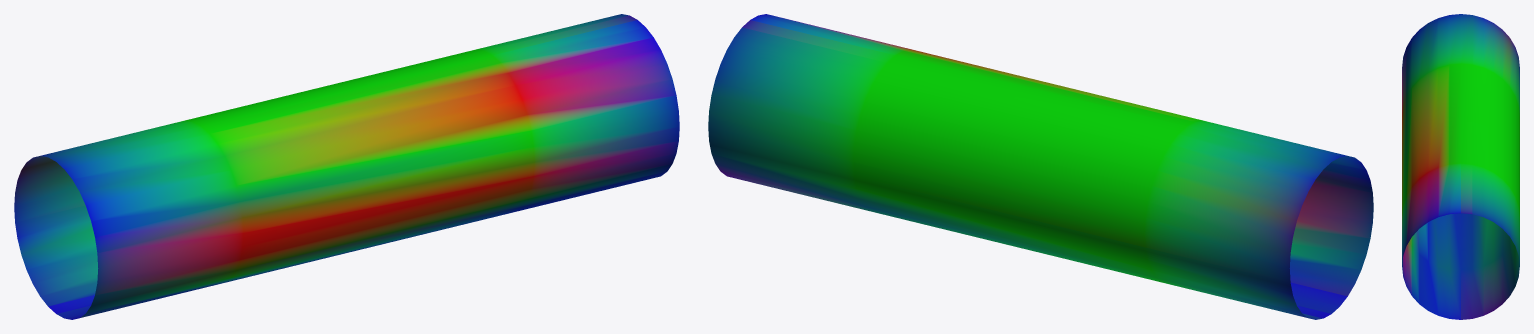
Rendered from PipeA_M_4.fbx.
The picture shows the model from 3 angles, left to right: view 1: azimuth 30°, elevation 25°; view 2: azimuth 150°, elevation 25°; view 3: azimuth 270°, elevation 25°; orthographic projection. The views are drawn at different scales.
Visible parts, largest first — view 1: Circle.004; view 2: Circle.004; view 3: Circle.004.
Boxes of the visible parts, x1=… form: Circle.004: x1=14, y1=14, x2=679, y2=319; Circle.004: x1=708, y1=14, x2=1373, y2=319; Circle.004: x1=1402, y1=14, x2=1519, y2=319.
Size of the model in its own units: 400 by 100 by 100.
